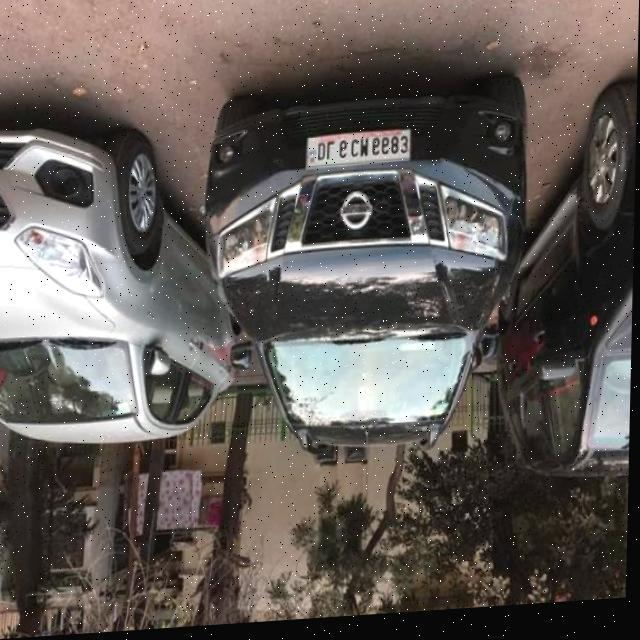plate: (305, 135, 413, 174)
